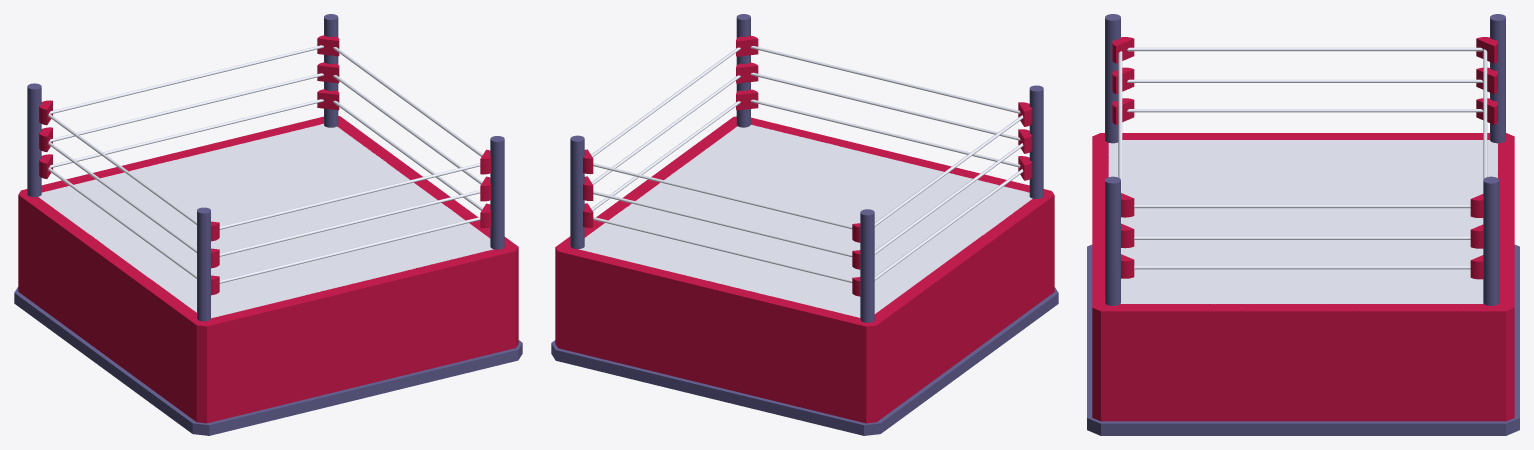
Rendered from RingBWS.fbx.
3 renders of one model, left to right at view 1: azimuth 30°, elevation 25°; view 2: azimuth 150°, elevation 25°; view 3: azimuth 270°, elevation 25°, orthographic. The views are drawn at different scales.
Visible parts, largest first — view 1: mergedBlocks; view 2: mergedBlocks; view 3: mergedBlocks.
Part boxes in pixels (x1,y1,x2,y2): mergedBlocks: (14, 14, 522, 435); mergedBlocks: (551, 14, 1058, 435); mergedBlocks: (1087, 14, 1519, 435).
Size of the model in its own units: 32.05 by 20 by 32.05.
